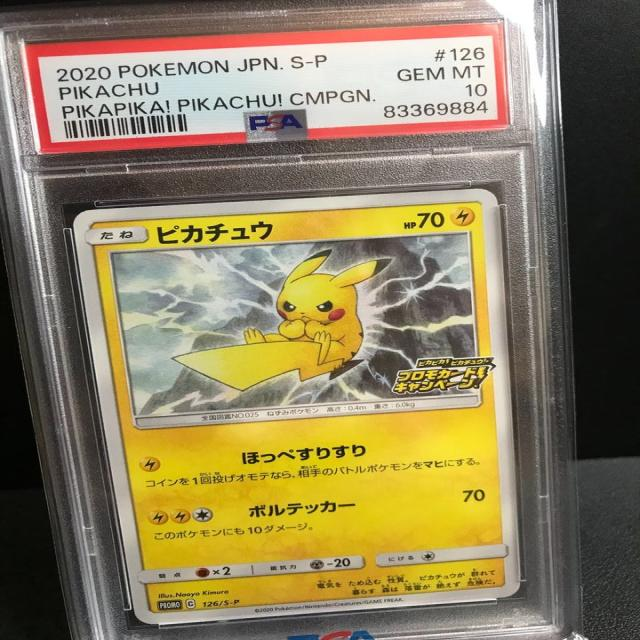card: (73, 189, 521, 625)
